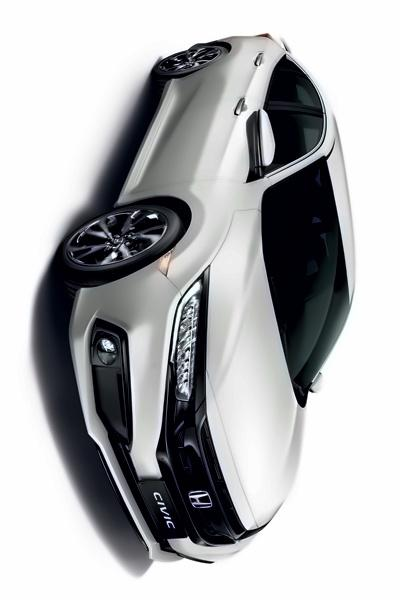Car hood: (189, 207, 301, 535)
Driver-s door - -F-R-: (89, 95, 360, 204)
Fender - -F-R-: (112, 181, 262, 297)
Front bumper: (62, 266, 261, 571)
Headlight - -R-: (152, 260, 217, 440)
Passenger-s door - -R-R-: (142, 46, 329, 124)
Side bumper - -R-: (109, 69, 185, 206)
Side mirror - -R-: (243, 106, 278, 185)
